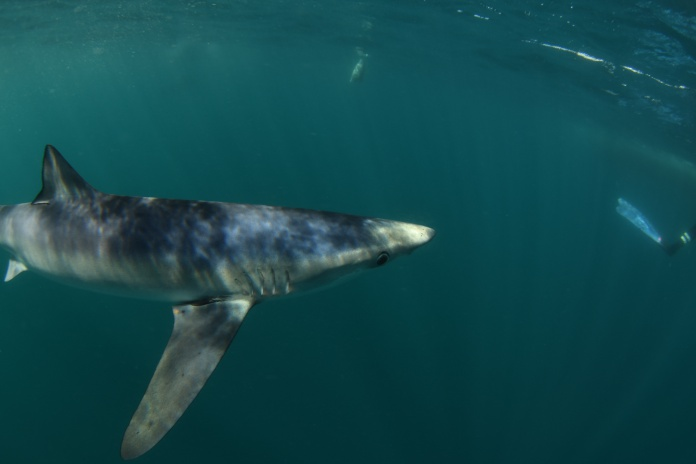Azul: (1, 133, 457, 463)
